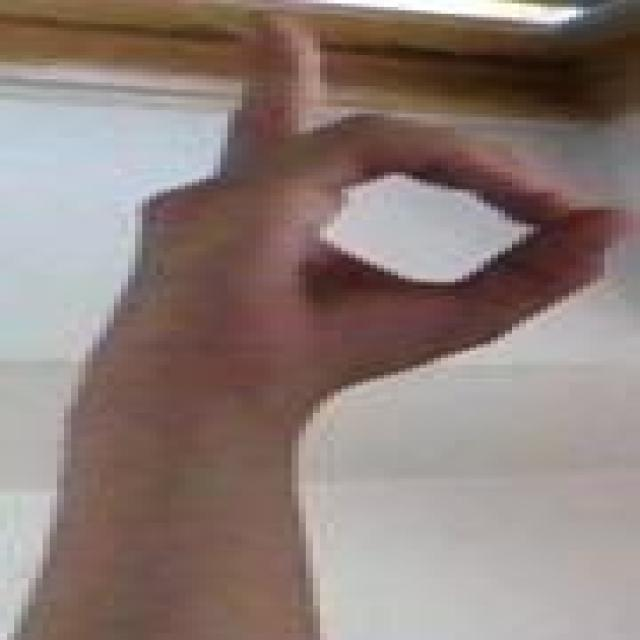D1: (0, 0, 640, 410)
